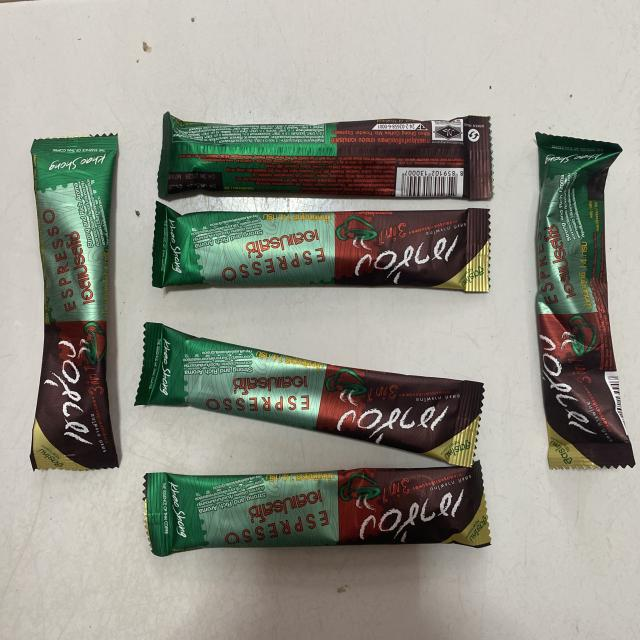plastik: (135, 322, 484, 465), (536, 134, 635, 469), (145, 461, 490, 556), (154, 202, 489, 291), (30, 135, 119, 470), (158, 112, 492, 199)
